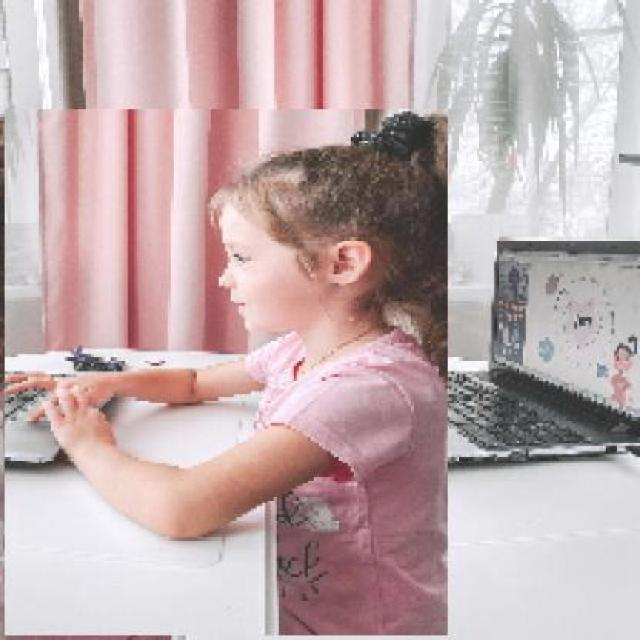child: (3, 109, 448, 637)
